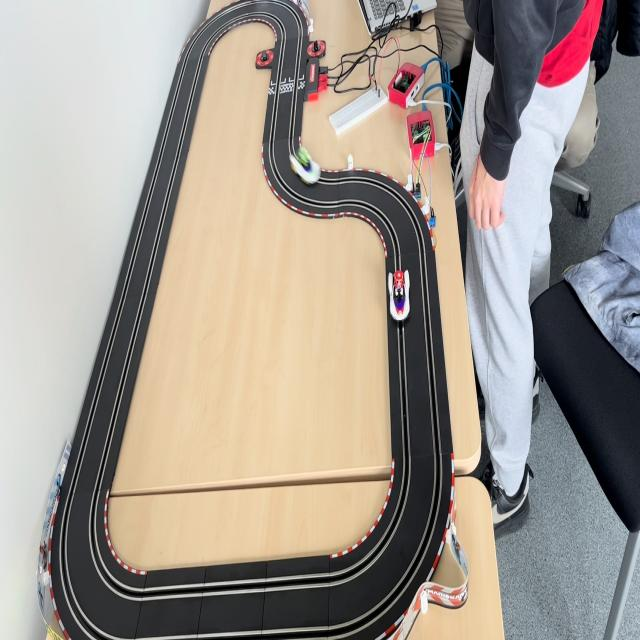mario: (388, 266, 410, 323)
yoshi: (287, 147, 324, 186)
